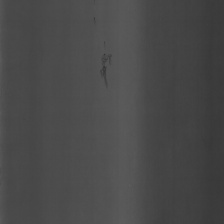water_spot: (96, 41, 119, 94)
